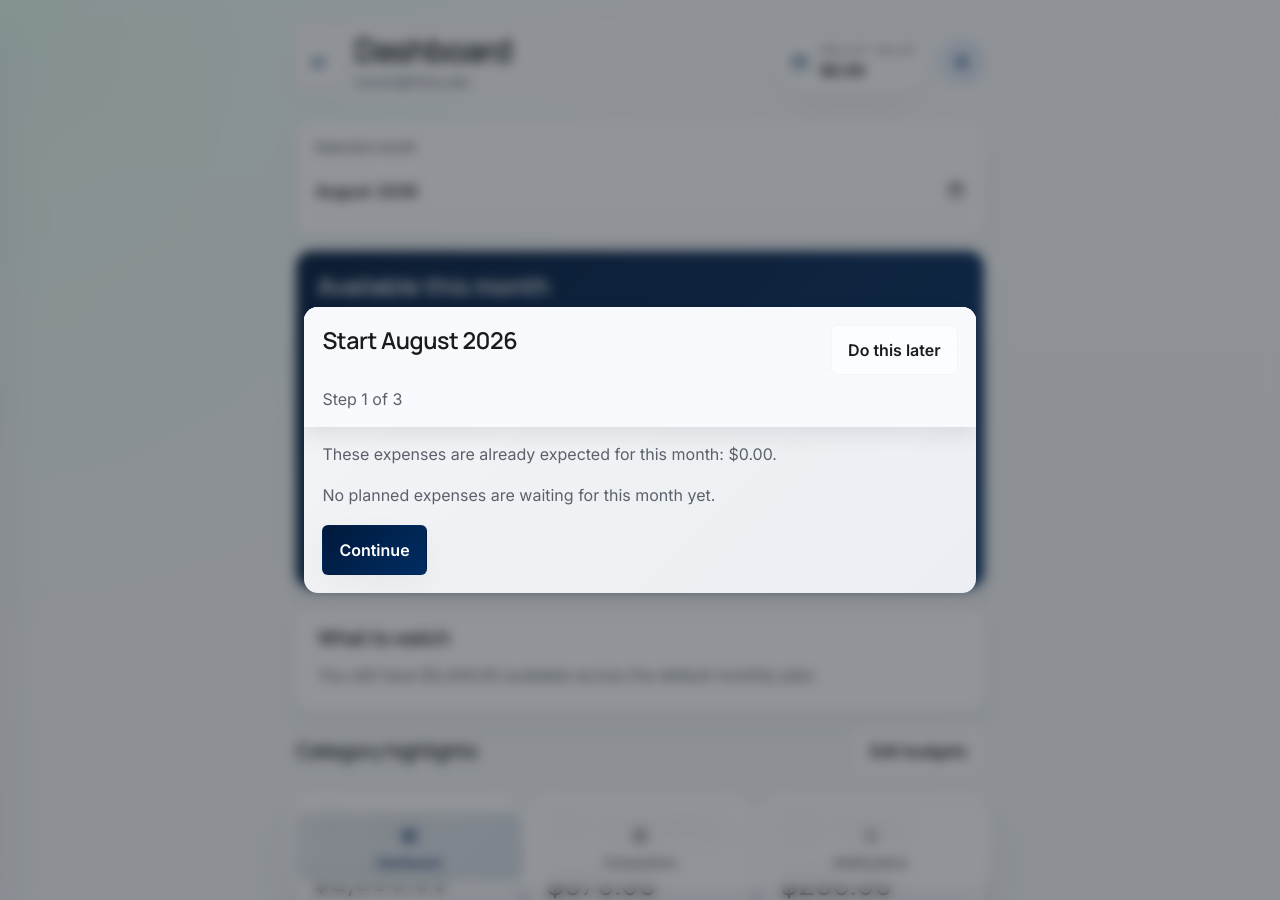
Test: App authentication routing › walks through the month review flow and persists the answers
The image size is (1280, 900).
Expected: the dialog is shown, [304, 307, 976, 593]
Expected: the text "Step 1 of 3" is shown, [322, 389, 402, 409]
Click the button "Continue": click(374, 550) [322, 525, 427, 575]
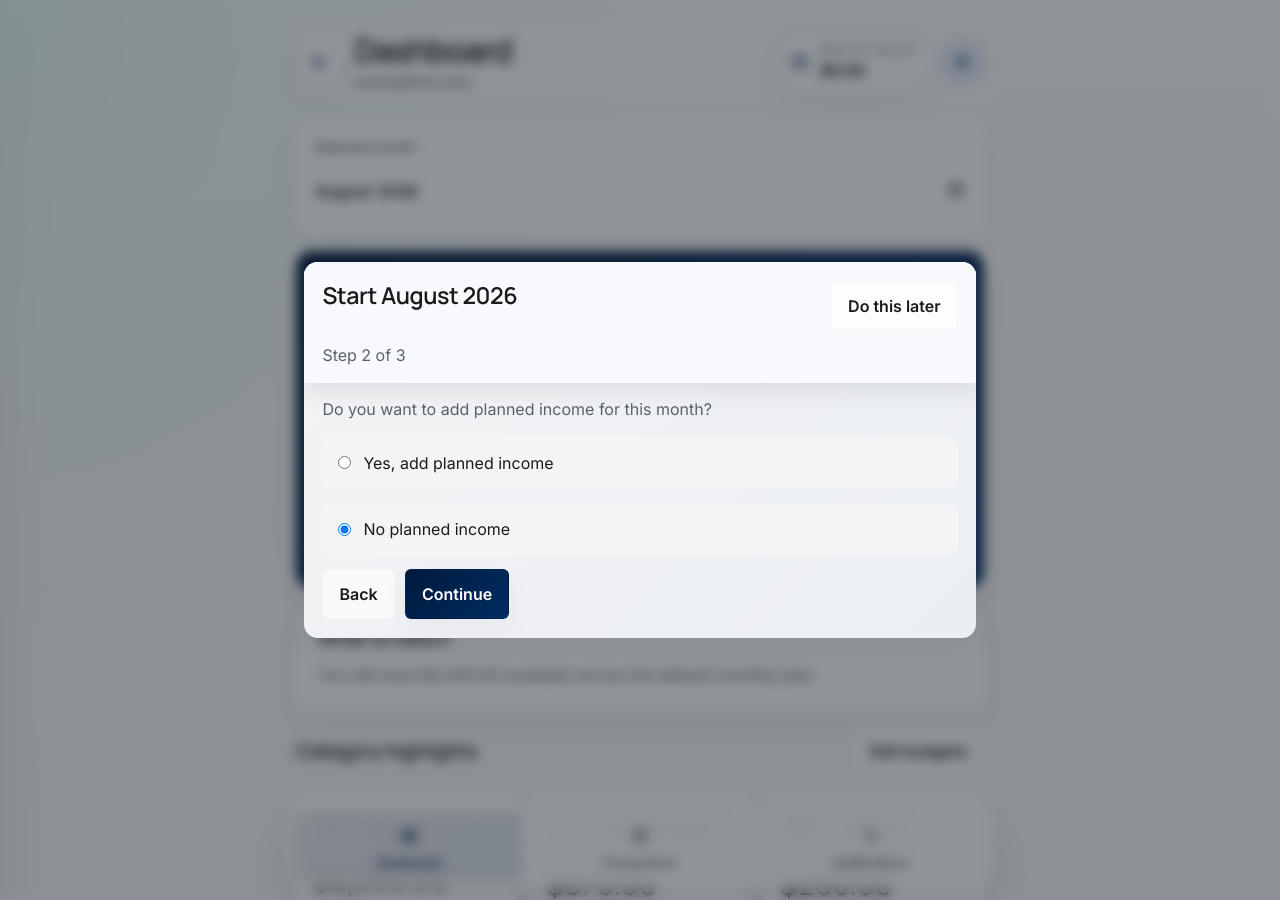
Click the radio button labelled "Yes, add planned income": click(345, 463) [338, 456, 351, 469]
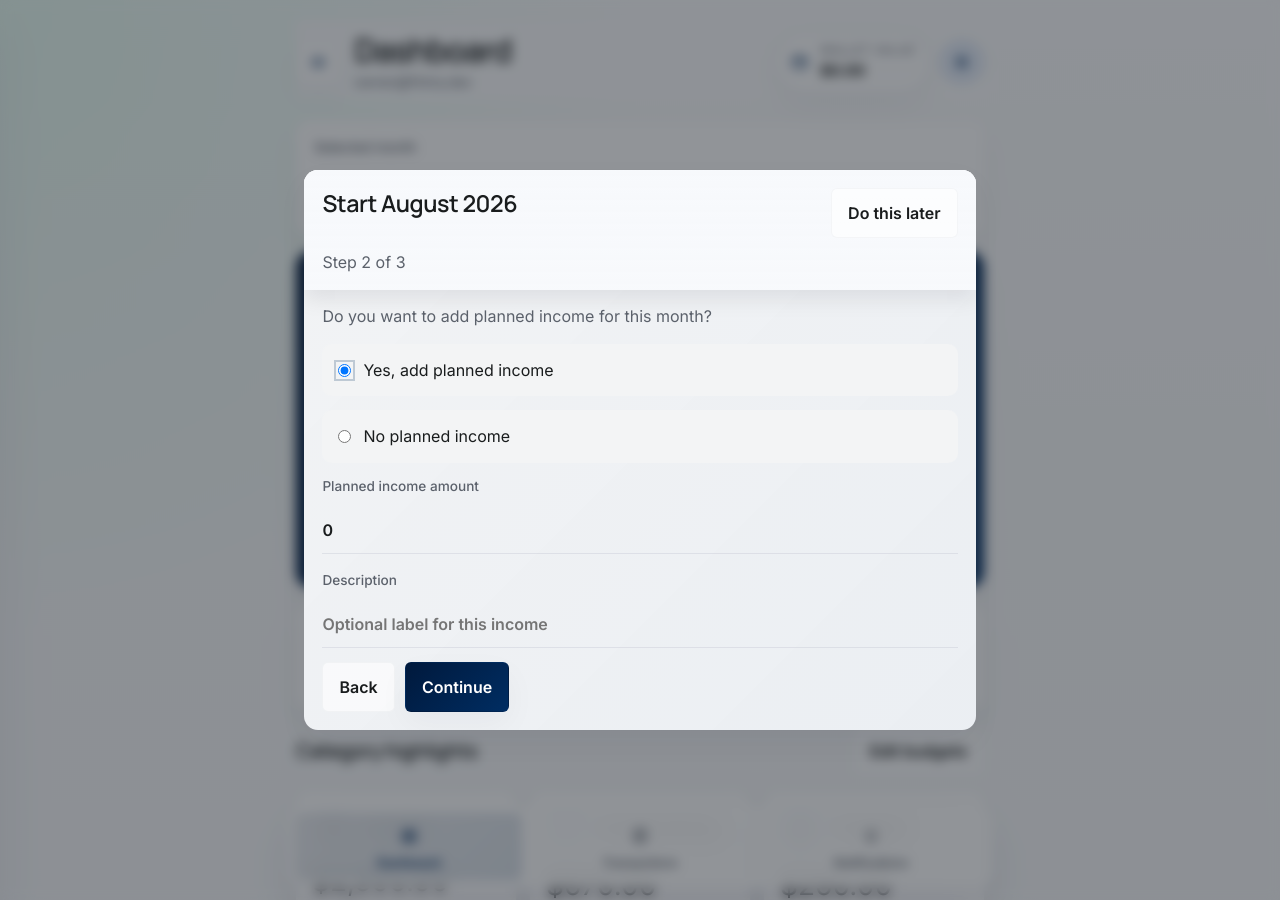
Replace the text in the number field labelled "Planned income amount" with "1200": (640, 529) [322, 504, 958, 554]
In the field labelled "Description": (640, 623) [322, 598, 958, 648], type "Freelance invoice"
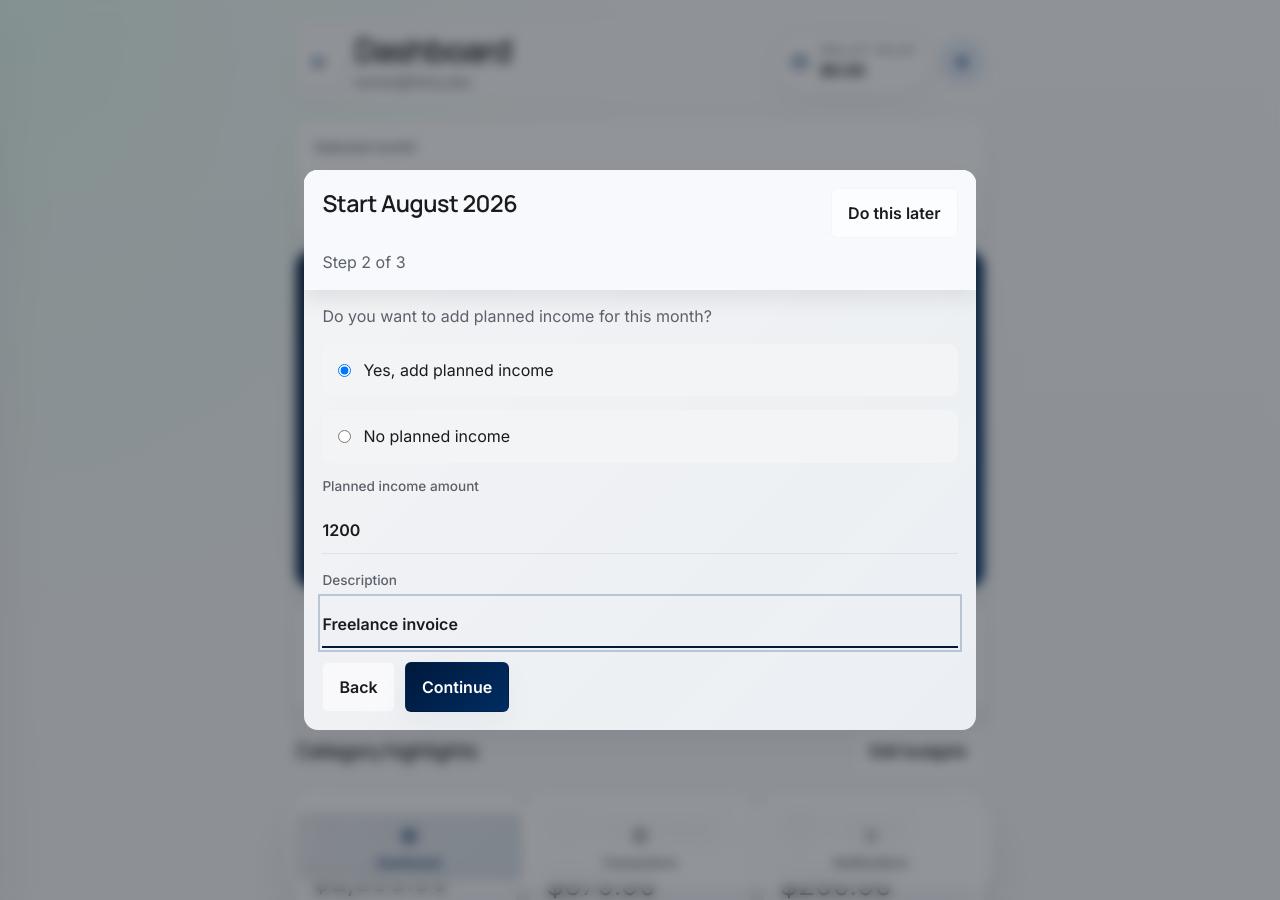
Click the button "Continue": click(457, 687) [405, 662, 509, 712]
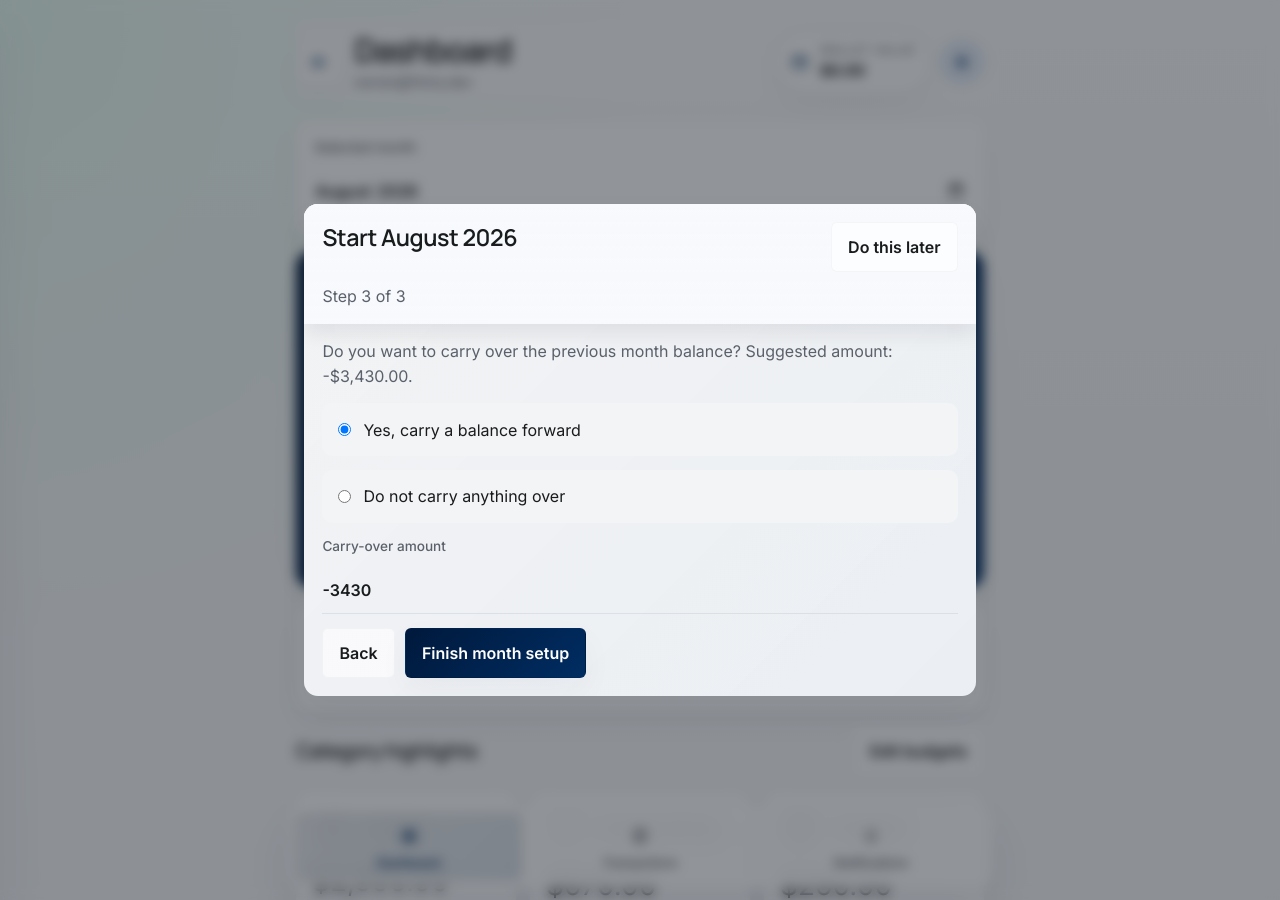
Click the radio button labelled "Yes, carry a balance forward": click(345, 430) [338, 423, 351, 436]
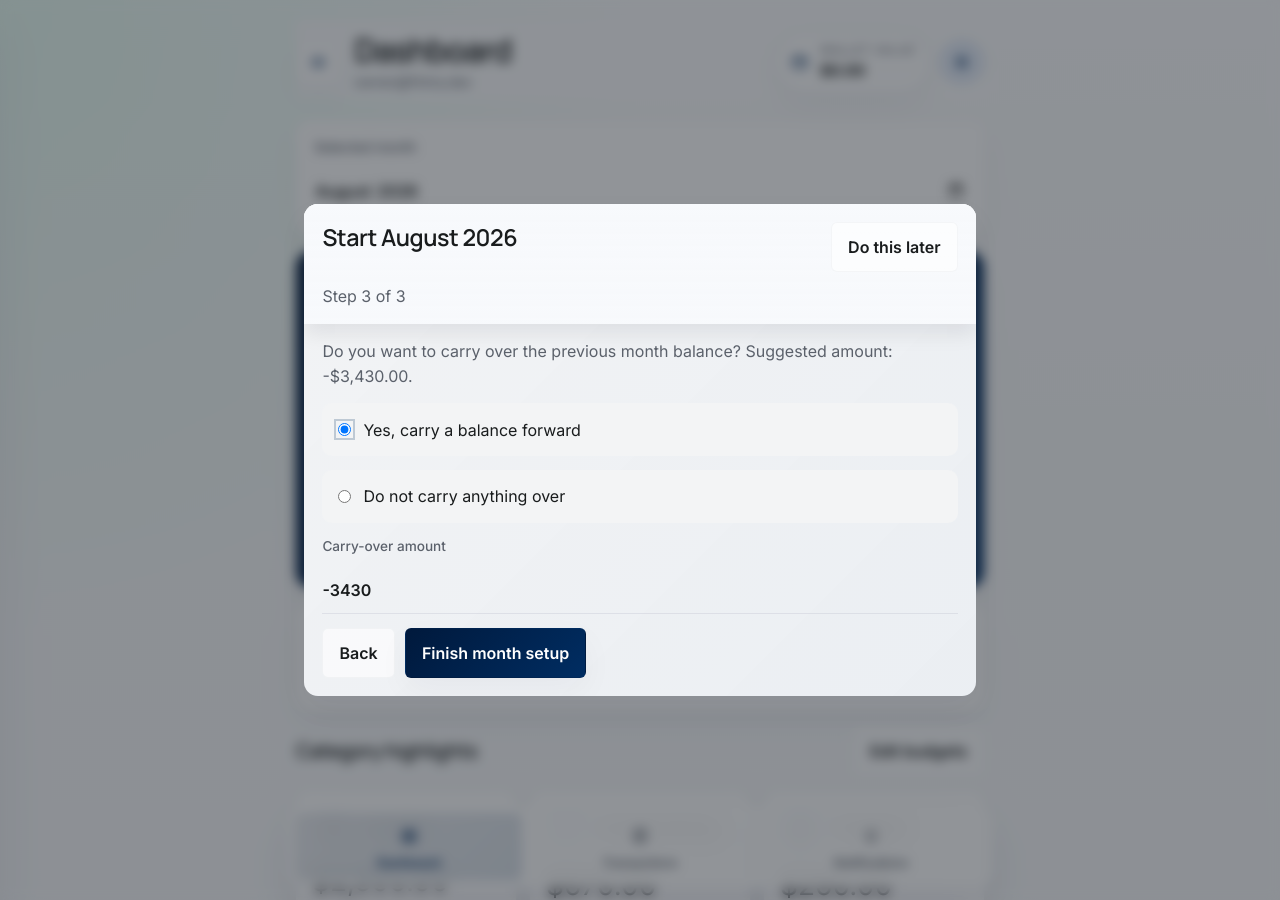
Replace the text in the number field labelled "Carry-over amount" with "-80": (640, 589) [322, 564, 958, 614]
Click the button "Finish month setup": click(496, 653) [405, 628, 586, 678]
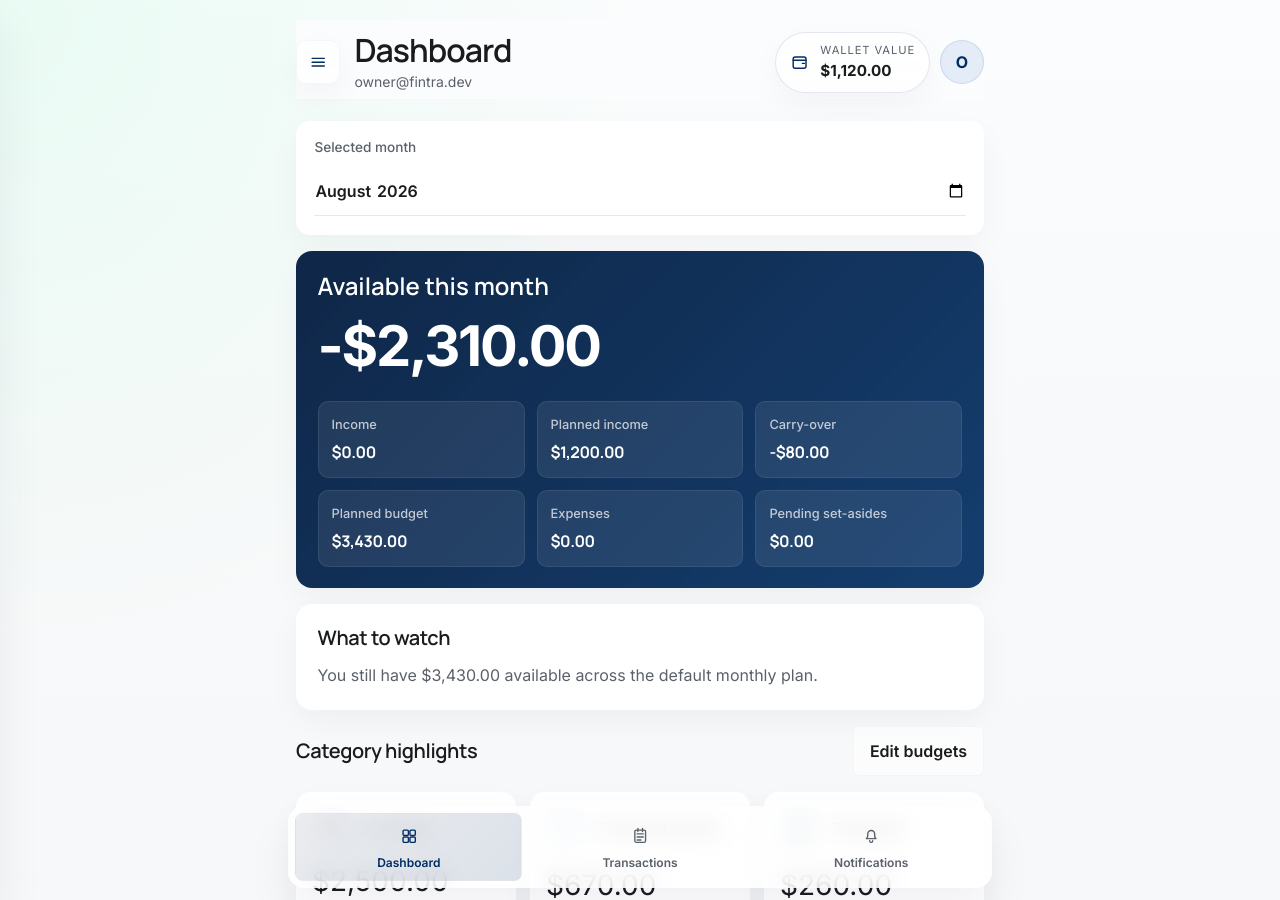
Now the dialog is gone
